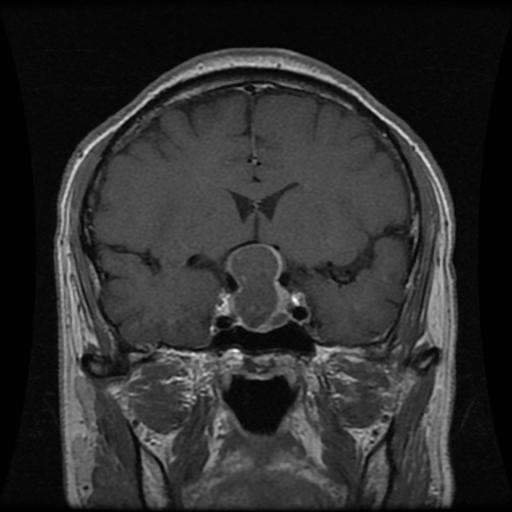Pituirity_tumour: (218, 242, 289, 333)
